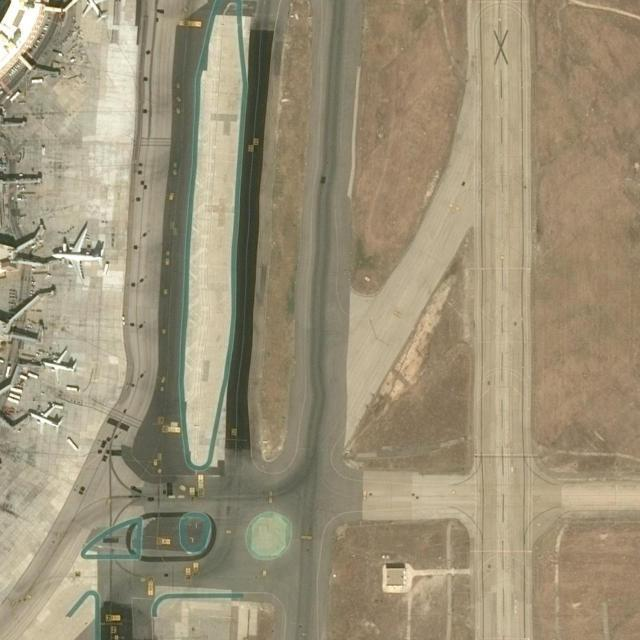Aircraft: (49, 225, 106, 281), (40, 349, 78, 382), (27, 405, 63, 436), (80, 0, 110, 22)
